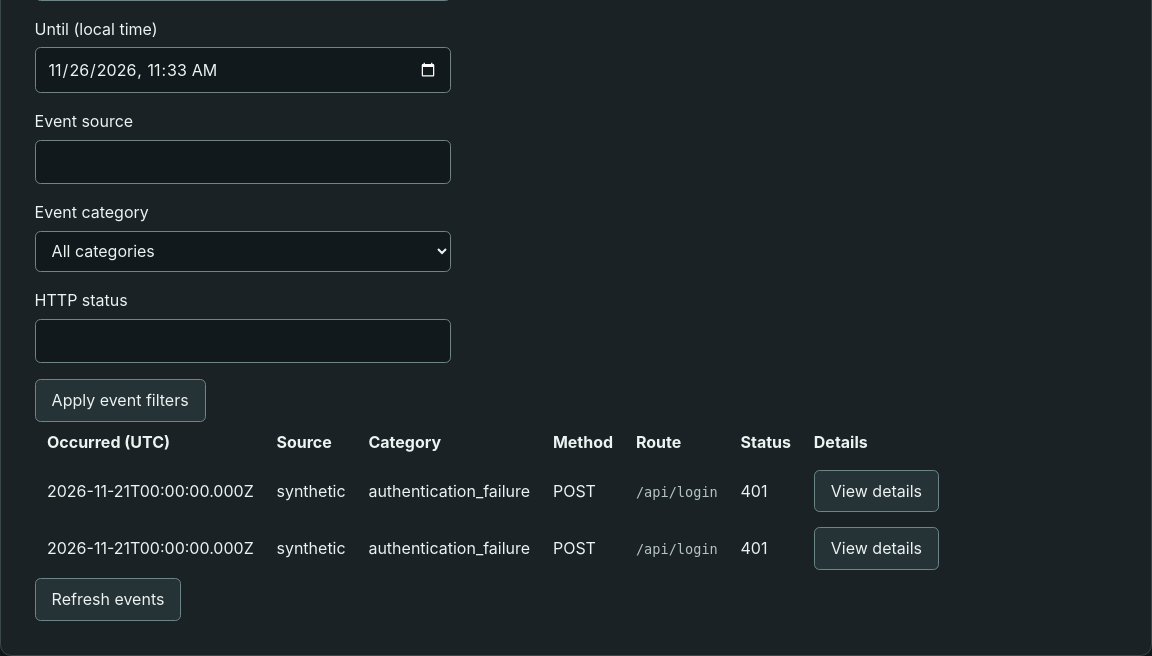
Test: shows persisted pseudonyms, then clears a denied event detail
This screenshot has width=1152, height=656.
(page scrolled)
Step 1. Click the button with aria-label "View event one" → click(876, 491), box [814,470,939,512]
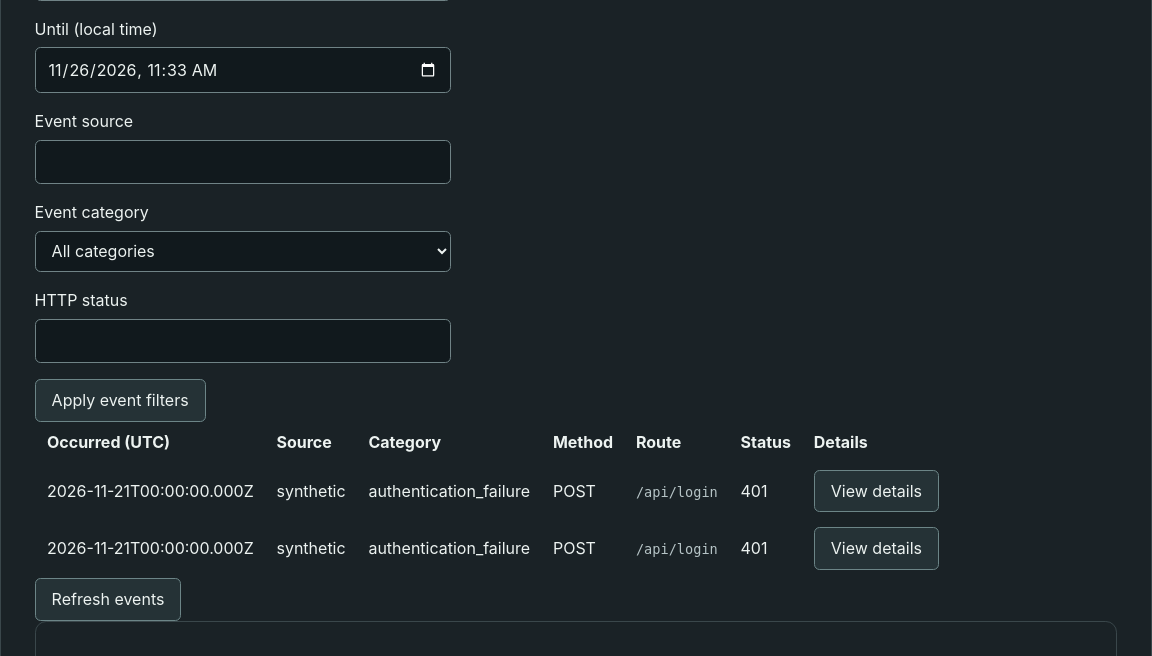
Step 2. Click the button with aria-label "View event two" → click(876, 549), box [814,527,939,570]
(page scrolled)
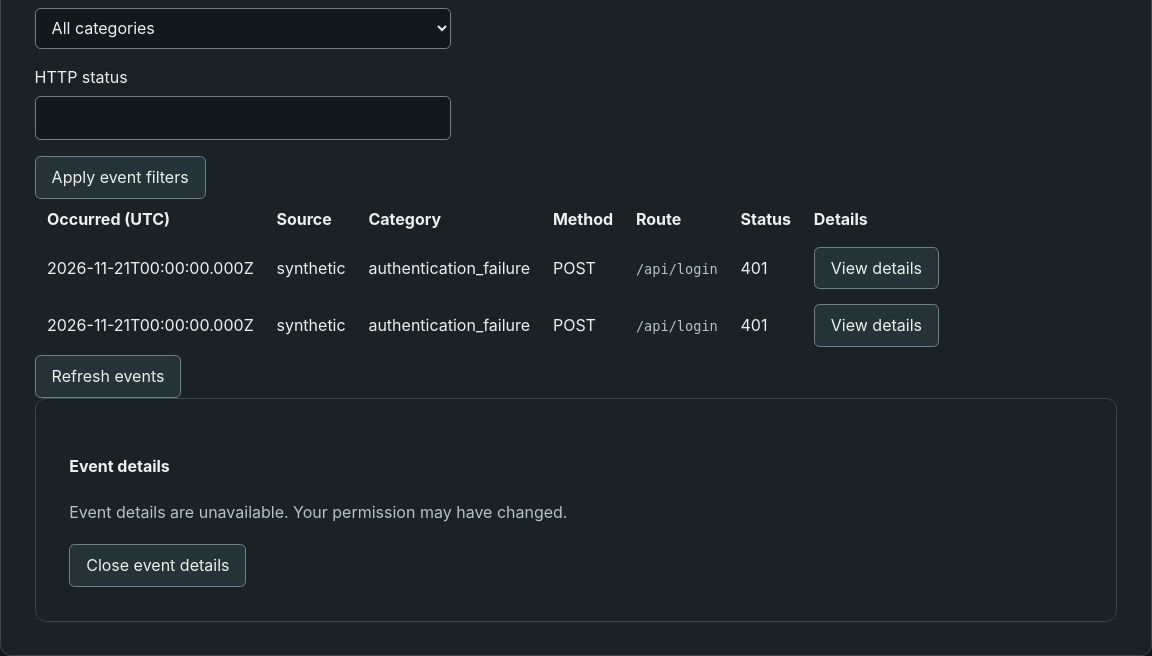
Expected: the message "Event details are unavailable. Your permission may have changed." is shown, [69,502,568,522]
